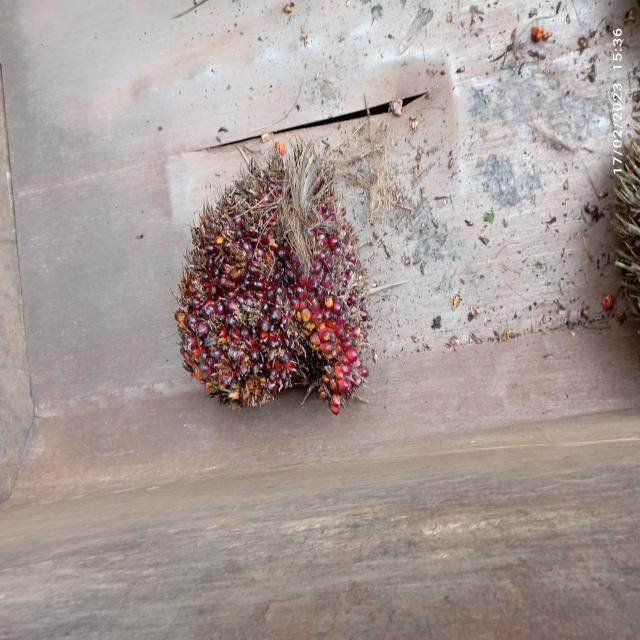fraksi 1: (157, 79, 400, 506)
